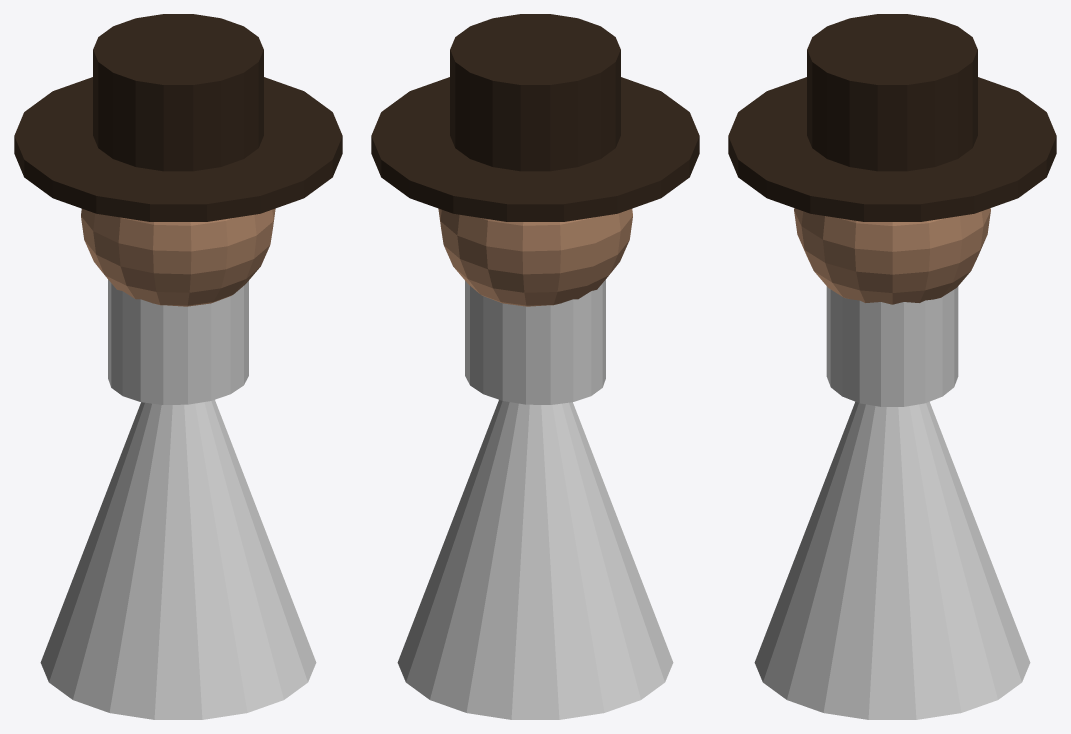
Rendered from wide-hat.e7c82a3f.glb.
3 views of the same model, side by side, from view 1: azimuth 30°, elevation 25°; view 2: azimuth 150°, elevation 25°; view 3: azimuth 270°, elevation 25° (orthographic).
Visible parts, largest first — view 1: accent, body; view 2: accent, body; view 3: accent, body.
Boxes of the visible parts, x1,y1,x2,y2 form: accent: (40, 279, 316, 719); body: (14, 14, 342, 306); accent: (397, 279, 673, 719); body: (371, 14, 699, 306); accent: (754, 286, 1030, 719); body: (728, 14, 1056, 304).
Bounding box in the file's own units: 0.4924 × 1.03 × 0.5.
